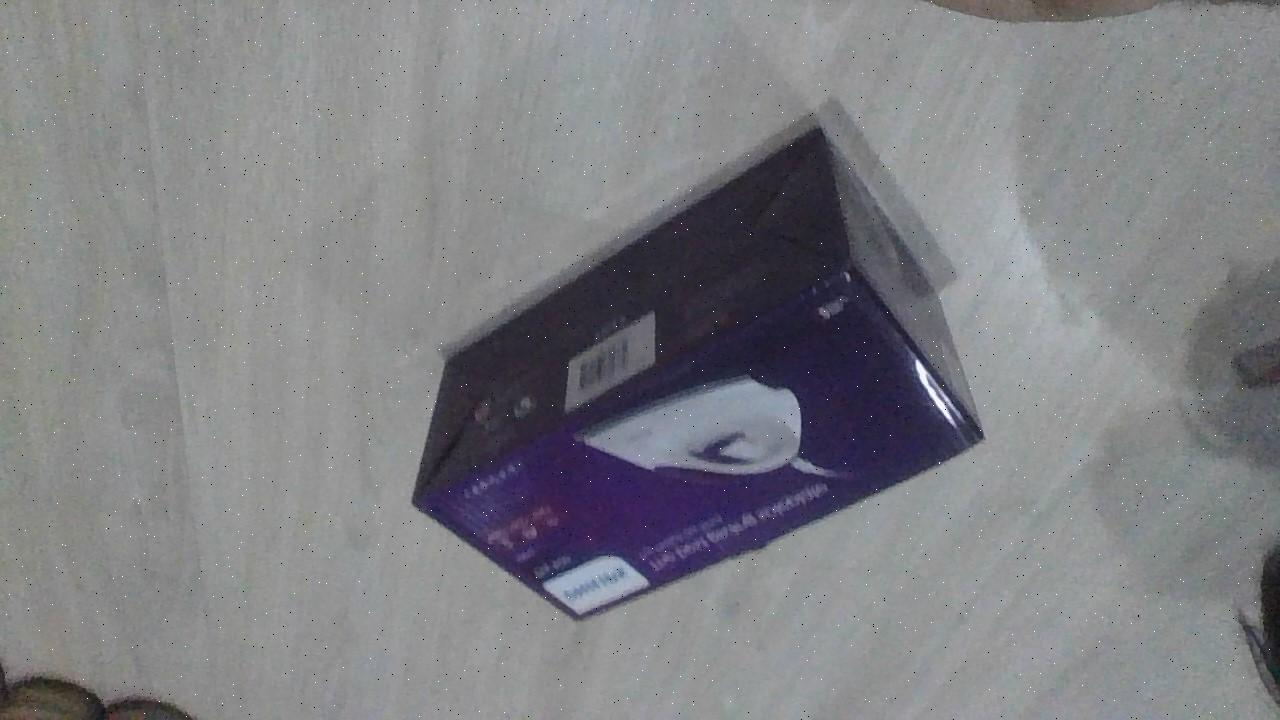IRON: (406, 116, 989, 626)
